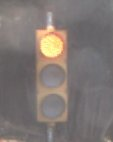Red: (28, 21, 72, 125)
